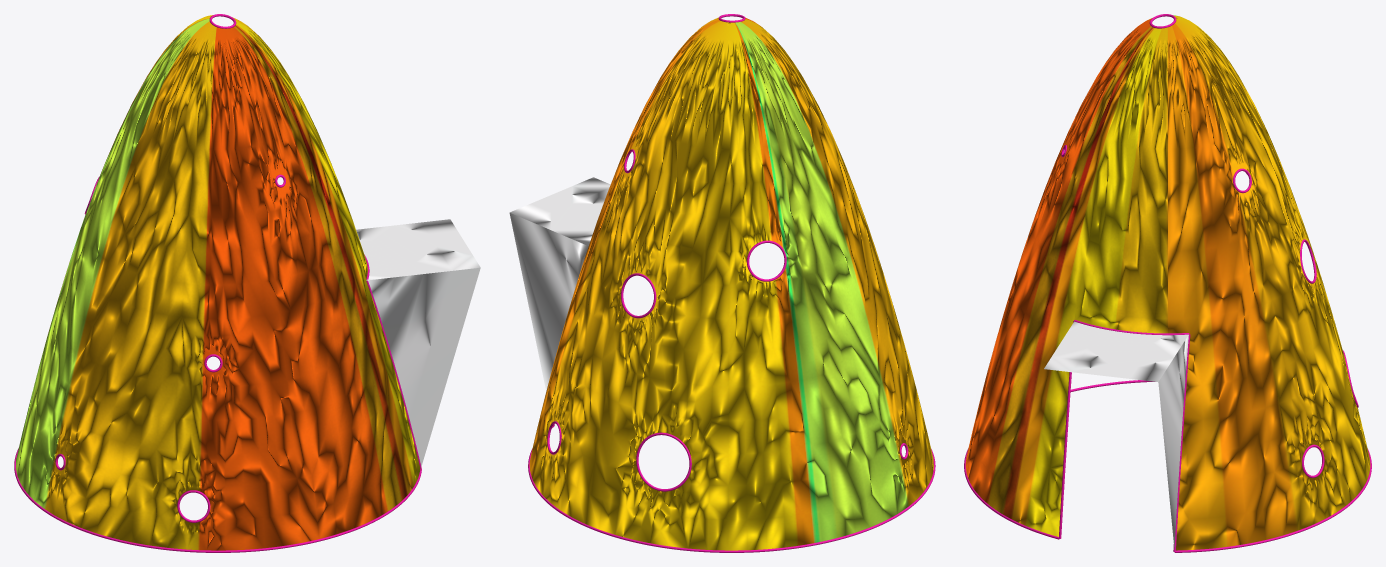
3 renders of one model, left to right at view 1: azimuth 30°, elevation 25°; view 2: azimuth 150°, elevation 25°; view 3: azimuth 270°, elevation 25°, orthographic.
Parts seen in each view (by area): view 1: Solids, Solids_2, Canopy, Canopy_2, Openings; view 2: Solids, Solids_2, Canopy, Openings, Canopy_2; view 3: Solids, Solids_2, Canopy, Openings, Canopy_2.
Part boxes in pixels (left/top/right/bottom): Solids: left=16, top=15, right=420, bottom=550; Solids_2: left=16, top=19, right=419, bottom=550; Canopy: left=356, top=219, right=480, bottom=466; Canopy_2: left=357, top=220, right=477, bottom=418; Openings: left=14, top=14, right=421, bottom=552; Solids: left=529, top=17, right=933, bottom=550; Solids_2: left=530, top=18, right=933, bottom=550; Canopy: left=509, top=177, right=610, bottom=391; Openings: left=528, top=14, right=935, bottom=552; Canopy_2: left=509, top=179, right=609, bottom=384; Solids: left=965, top=15, right=1370, bottom=550; Solids_2: left=966, top=21, right=1369, bottom=550; Canopy: left=1044, top=321, right=1188, bottom=548; Openings: left=964, top=14, right=1371, bottom=552; Canopy_2: left=1047, top=323, right=1188, bottom=533.
Size of the model in its own units: 11.34 by 12.07 by 9.91.
3 materials, 3 textured.
